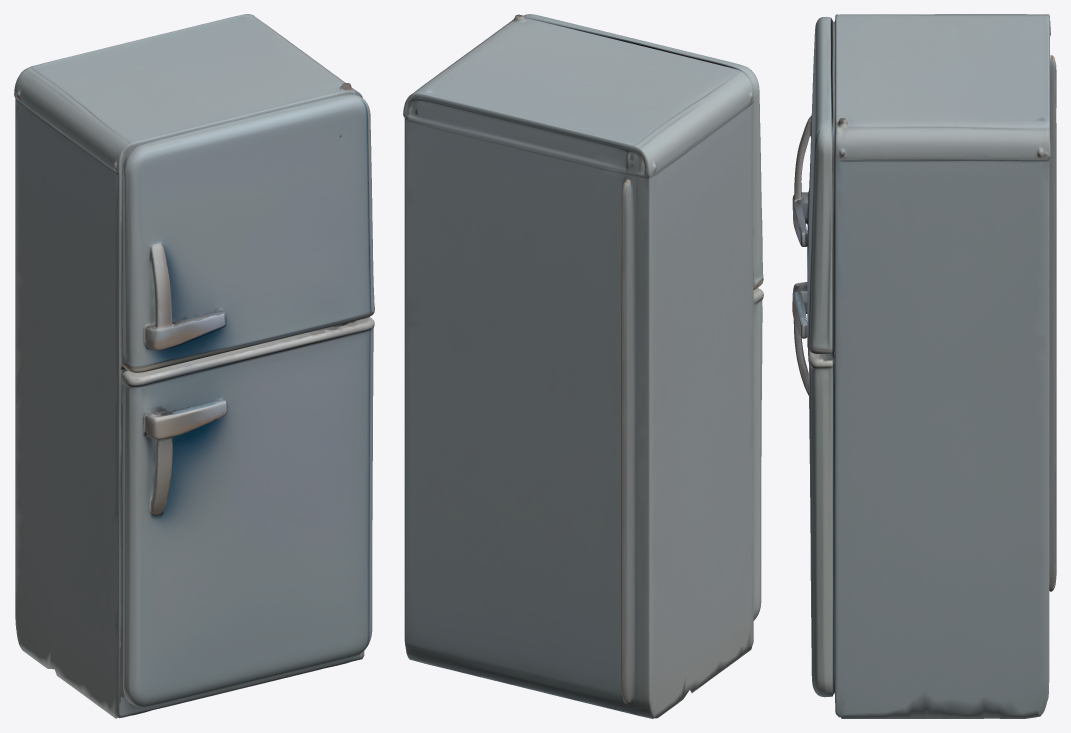
Rendered from fridge.glb.
3 renders of one model, left to right at view 1: azimuth 30°, elevation 25°; view 2: azimuth 150°, elevation 25°; view 3: azimuth 270°, elevation 25°, orthographic. The views are drawn at different scales.
Parts seen in each view (by area): view 1: patrick-reference-fridge; view 2: patrick-reference-fridge; view 3: patrick-reference-fridge.
Boxes of the visible parts, <box> form: patrick-reference-fridge: <box>14,14,374,718</box>; patrick-reference-fridge: <box>403,14,763,718</box>; patrick-reference-fridge: <box>792,14,1056,718</box>.
Size of the model in its own units: 0.76 by 1.68 by 0.68.
1 material, 1 textured.
